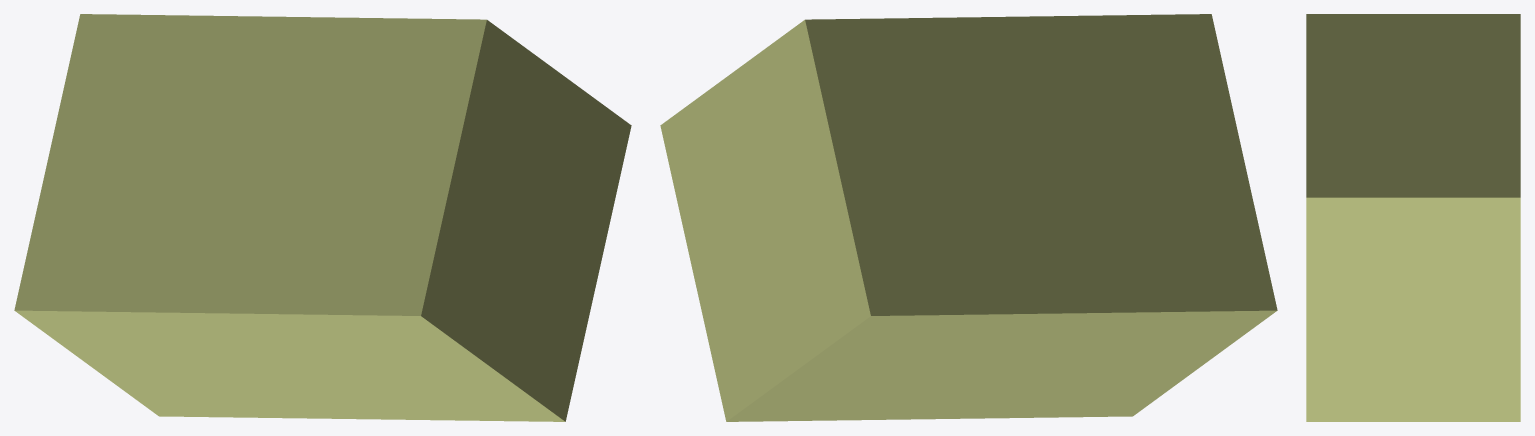
3 renders of one model, left to right at view 1: azimuth 30°, elevation 25°; view 2: azimuth 150°, elevation 25°; view 3: azimuth 270°, elevation 25°, orthographic. The views are drawn at different scales.
Visible parts, largest first — view 1: 0_1_0_2_1_3_0_2_3_0_1; view 2: 0_1_0_2_1_3_0_2_3_0_1; view 3: 0_1_0_2_1_3_0_2_3_0_1.
Part boxes in pixels (left/top/right/bottom): 0_1_0_2_1_3_0_2_3_0_1: left=14, top=14, right=631, bottom=421; 0_1_0_2_1_3_0_2_3_0_1: left=660, top=14, right=1277, bottom=421; 0_1_0_2_1_3_0_2_3_0_1: left=1306, top=14, right=1520, bottom=421.
Bounding box in the file's own units: 11.32 × 8.81 × 6.
